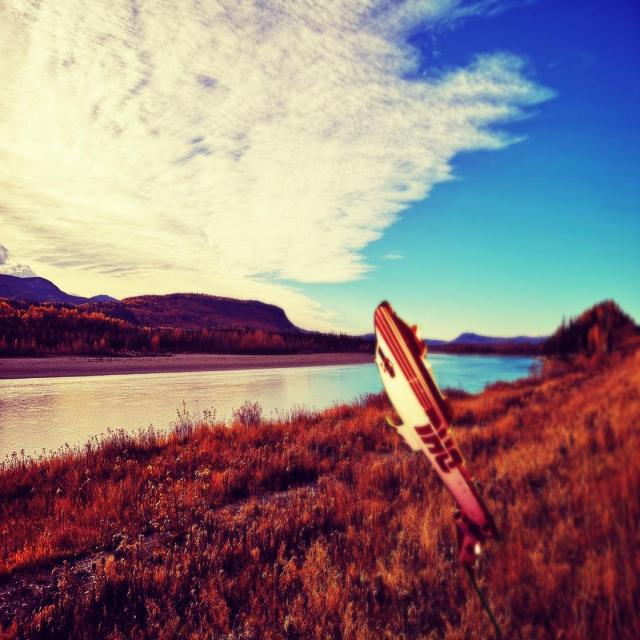airplane: (370, 299, 508, 639)
